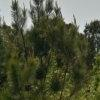Tree: (28, 4, 100, 82)
